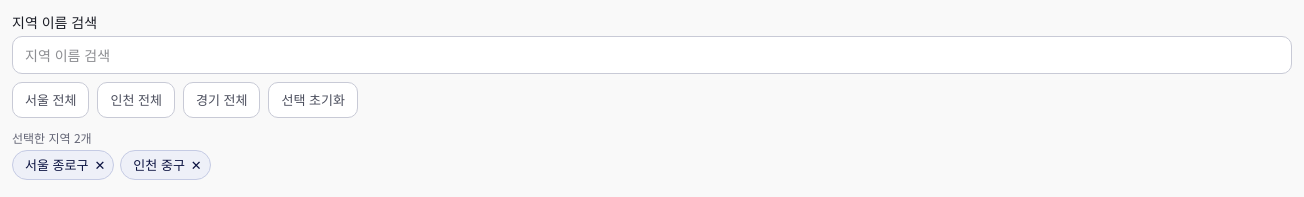
Test case: bulk actions › clears every selection
Click the button with test id "facility-cost-regions-clear" at (313, 100), box left=268, top=82, right=358, bottom=118
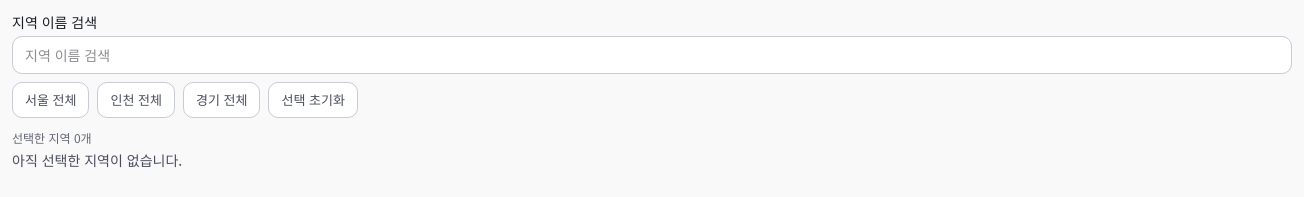
Now the element with test id "facility-cost-selected-regions" shows "아직 선택한 지역이 없습니다", box left=12, top=150, right=182, bottom=170
